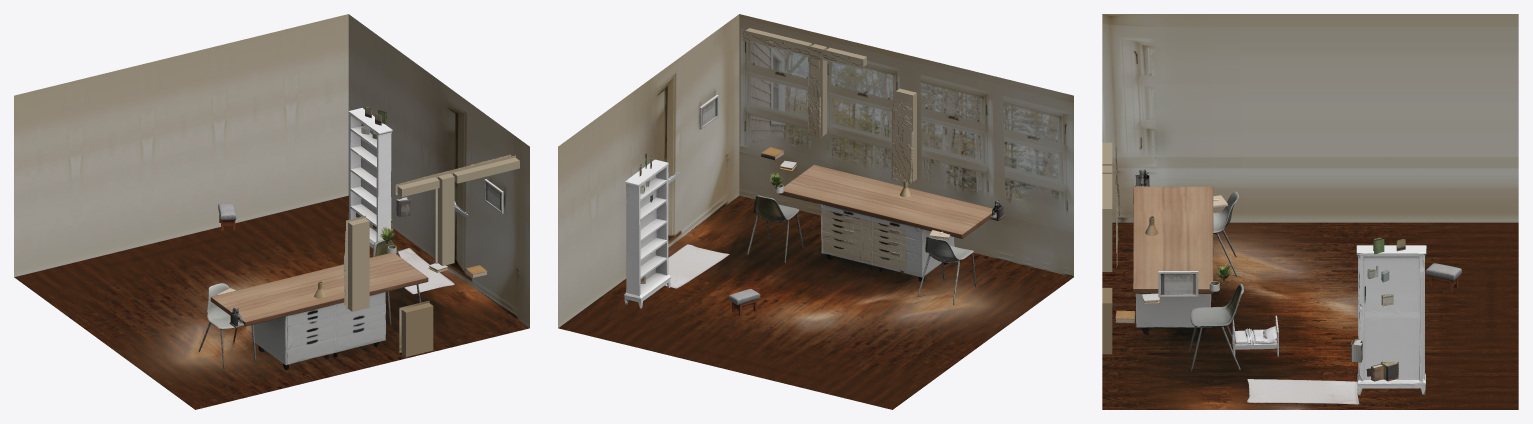
Rendered from scene_lite.glb.
3 renders of one model, left to right at view 1: azimuth 30°, elevation 25°; view 2: azimuth 150°, elevation 25°; view 3: azimuth 270°, elevation 25°, orthographic. The views are drawn at different scales.
Parts seen in each view (by area): view 1: room_wall_z_min, room_floor, room_wall_x_max, 032_desk, 027_bookshelf, room_builtin_03_body, room_builtin_04_body, room_builtin_00_body, 035_office_chair, 039_rug, room_builtin_01_body, room_builtin_02_body (+1 smaller); view 2: room_floor, room_wall_z_max, room_wall_x_max, 032_desk, 027_bookshelf, room_relief_00, room_relief_01, 039_rug, 036_office_chair, 035_office_chair, 002_bench, room_builtin_00_face (+1 smaller); view 3: room_wall_x_min, room_floor, 032_desk, 027_bookshelf, 039_rug, 036_office_chair, 001_bed, 037_picture_frame, 002_bench, room_builtin_04_body, 035_office_chair, room_builtin_00_body (+1 smaller).
Part boxes in pixels (left/top/right/bottom): room_wall_z_min: left=14, top=14, right=348, bottom=277; room_floor: left=14, top=195, right=529, bottom=409; room_wall_x_max: left=348, top=14, right=529, bottom=327; 032_desk: left=210, top=253, right=428, bottom=370; 027_bookshelf: left=348, top=108, right=392, bottom=248; room_builtin_03_body: left=348, top=218, right=369, bottom=311; room_builtin_04_body: left=401, top=303, right=433, bottom=356; room_builtin_00_body: left=438, top=173, right=454, bottom=265; 035_office_chair: left=198, top=283, right=255, bottom=368; 039_rug: left=371, top=248, right=454, bottom=294; room_builtin_01_body: left=453, top=157, right=519, bottom=183; room_builtin_02_body: left=397, top=177, right=439, bottom=196; room_floor: left=558, top=195, right=1073, bottom=409; room_wall_z_max: left=739, top=14, right=1073, bottom=277; room_wall_x_max: left=558, top=14, right=739, bottom=327; 032_desk: left=779, top=164, right=996, bottom=281; 027_bookshelf: left=624, top=159, right=670, bottom=308; room_relief_00: left=742, top=33, right=860, bottom=138; room_relief_01: left=891, top=99, right=913, bottom=184; 039_rug: left=664, top=244, right=729, bottom=288; 036_office_chair: left=747, top=195, right=803, bottom=263; 035_office_chair: left=917, top=236, right=975, bottom=304; 002_bench: left=728, top=289, right=760, bottom=315; room_builtin_00_face: left=808, top=46, right=822, bottom=138; room_wall_x_min: left=1102, top=14, right=1518, bottom=222; room_floor: left=1102, top=222, right=1518, bottom=409; 032_desk: left=1133, top=186, right=1213, bottom=334; 027_bookshelf: left=1356, top=245, right=1426, bottom=395; 039_rug: left=1247, top=379, right=1359, bottom=404; 036_office_chair: left=1188, top=284, right=1243, bottom=371; 001_bed: left=1232, top=315, right=1278, bottom=356; 037_picture_frame: left=1158, top=271, right=1198, bottom=297; 002_bench: left=1425, top=263, right=1461, bottom=293; room_builtin_04_body: left=1102, top=288, right=1112, bottom=354; 035_office_chair: left=1213, top=191, right=1238, bottom=276; room_builtin_00_body: left=1102, top=165, right=1112, bottom=271.
Bounding box in the file's own units: 2.78 × 1.34 × 2.43.
Materials: 49 (49 with a texture image).
